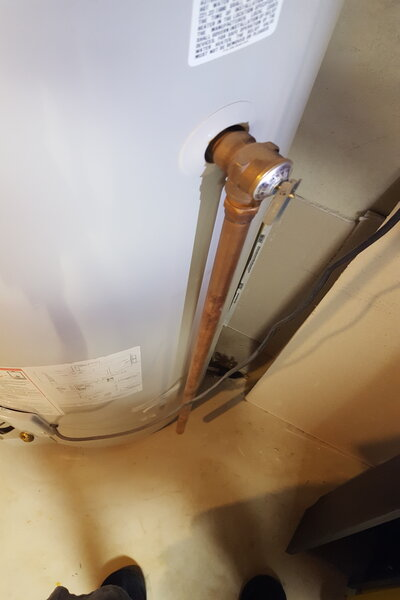valve: (201, 125, 299, 244)
